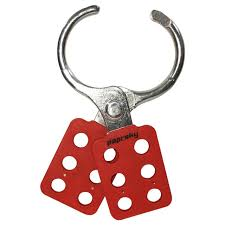hasp: (39, 6, 187, 221)
